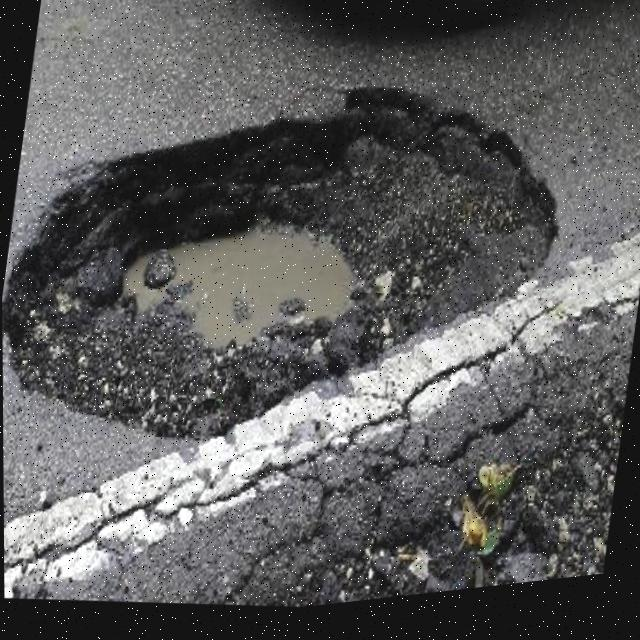Pothole: (0, 19, 584, 514)
